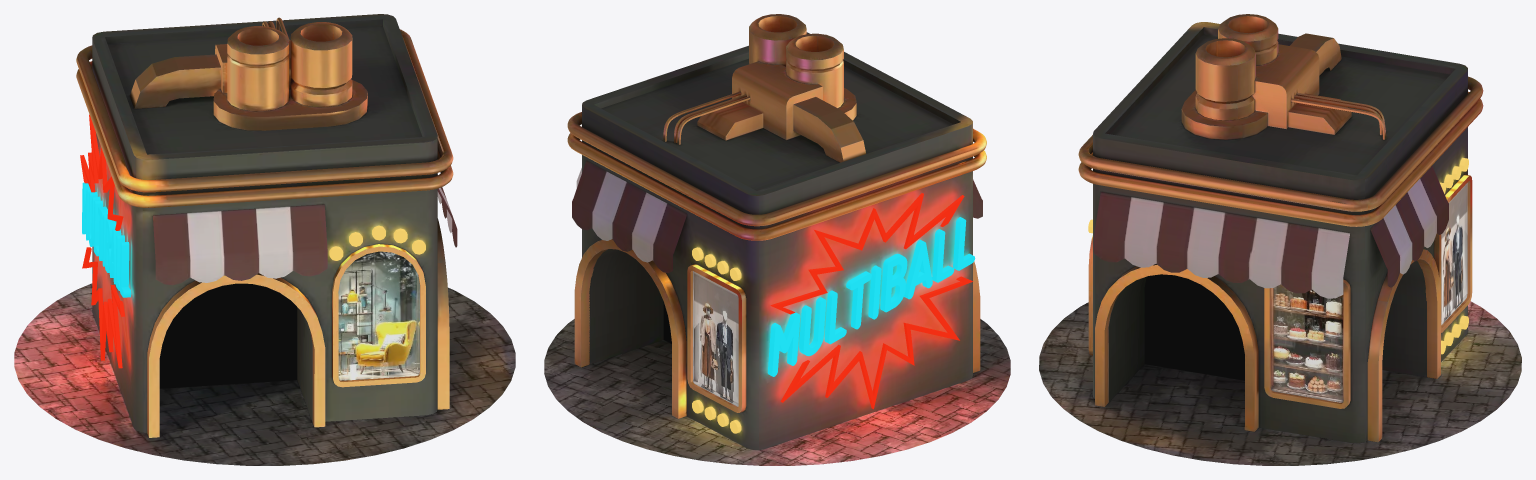
File: minigame_shops.glb
3 renders of one model, left to right at view 1: azimuth 30°, elevation 25°; view 2: azimuth 150°, elevation 25°; view 3: azimuth 270°, elevation 25°, orthographic. The views are drawn at different scales.
Parts seen in each view (by area): view 1: Decoration.shopcube_Baked; view 2: Decoration.shopcube_Baked; view 3: Decoration.shopcube_Baked.
Part boxes in pixels (x1,y1,x2,y2): Decoration.shopcube_Baked: [14, 14, 515, 465]; Decoration.shopcube_Baked: [544, 14, 1010, 465]; Decoration.shopcube_Baked: [1039, 14, 1521, 465].
Bounding box in the file's own units: 0.1153 × 0.0865 × 0.1153.
4 materials, 1 textured.
